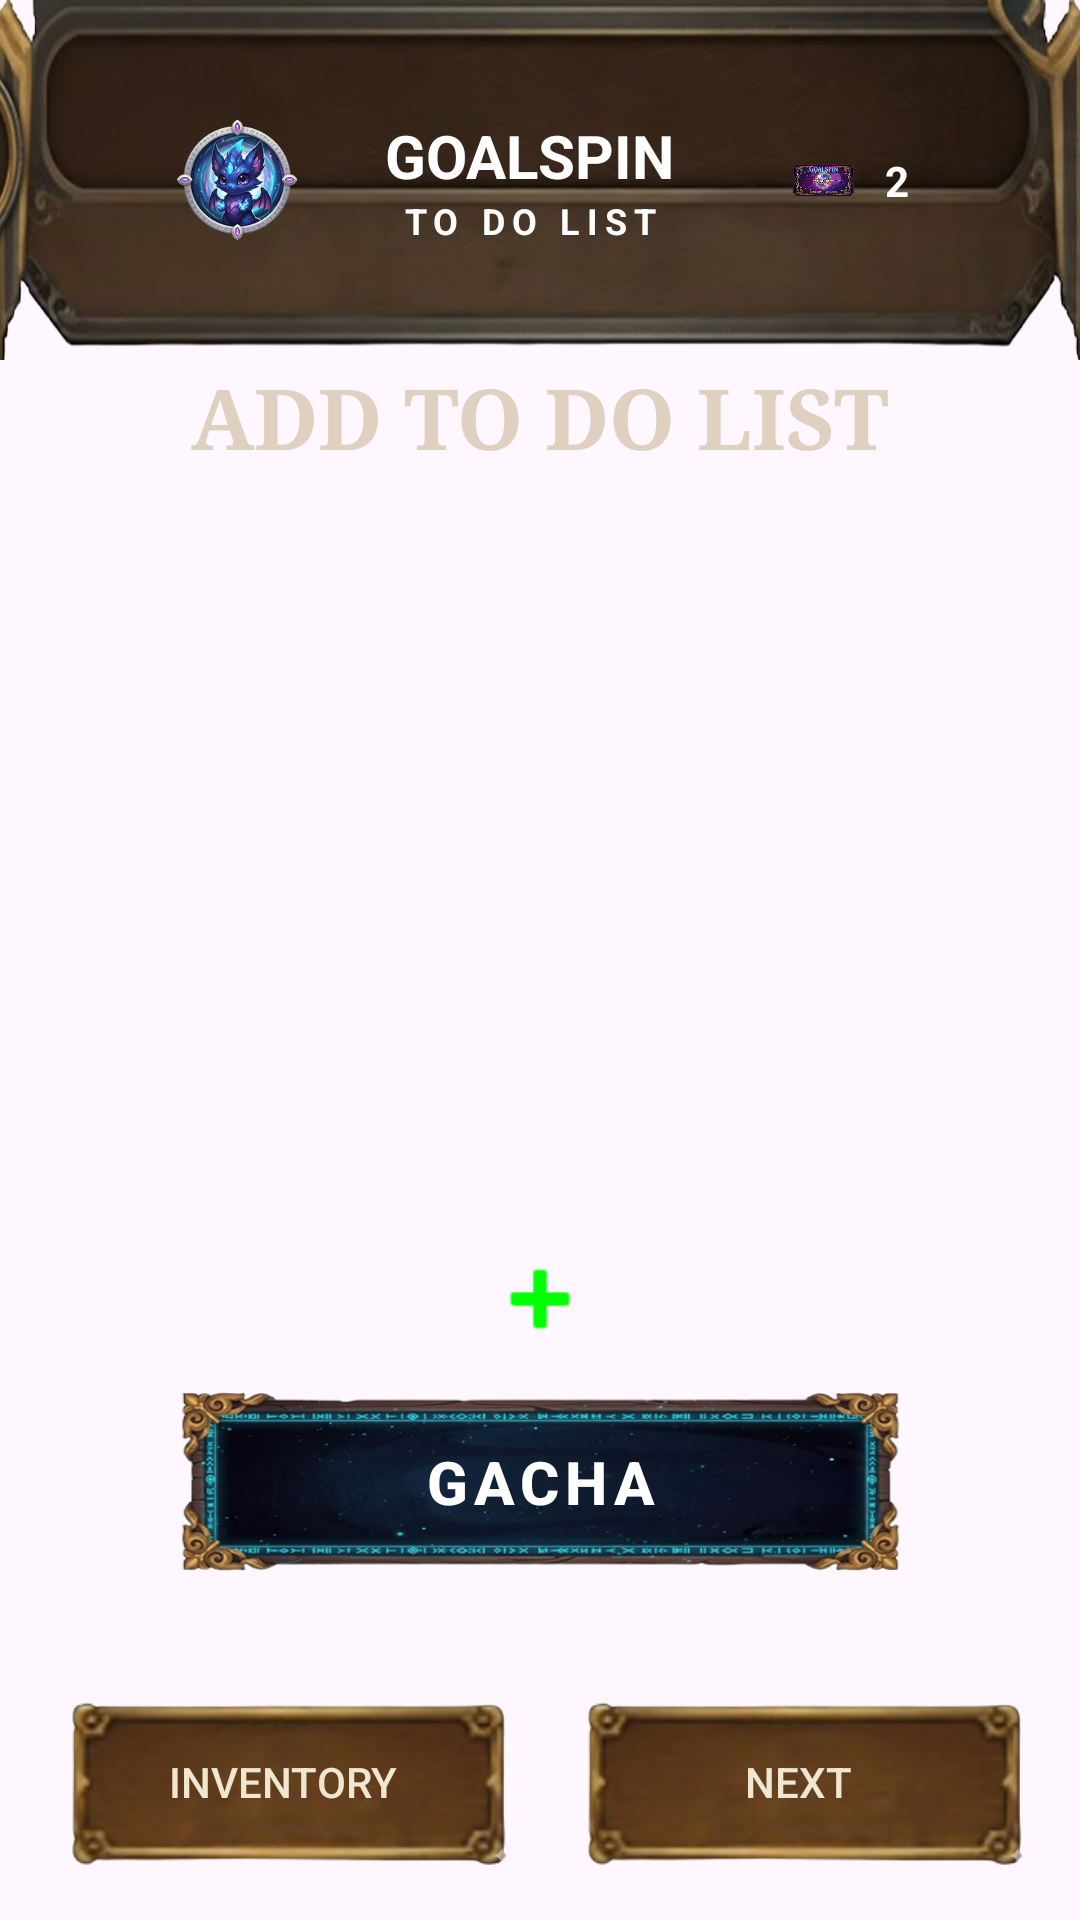

Icons on this 1080×1920 Android screen, each with the point to tap as [x,y]:
add: [540,1299]
proflie: [237,186]
ticket: [823,181]
